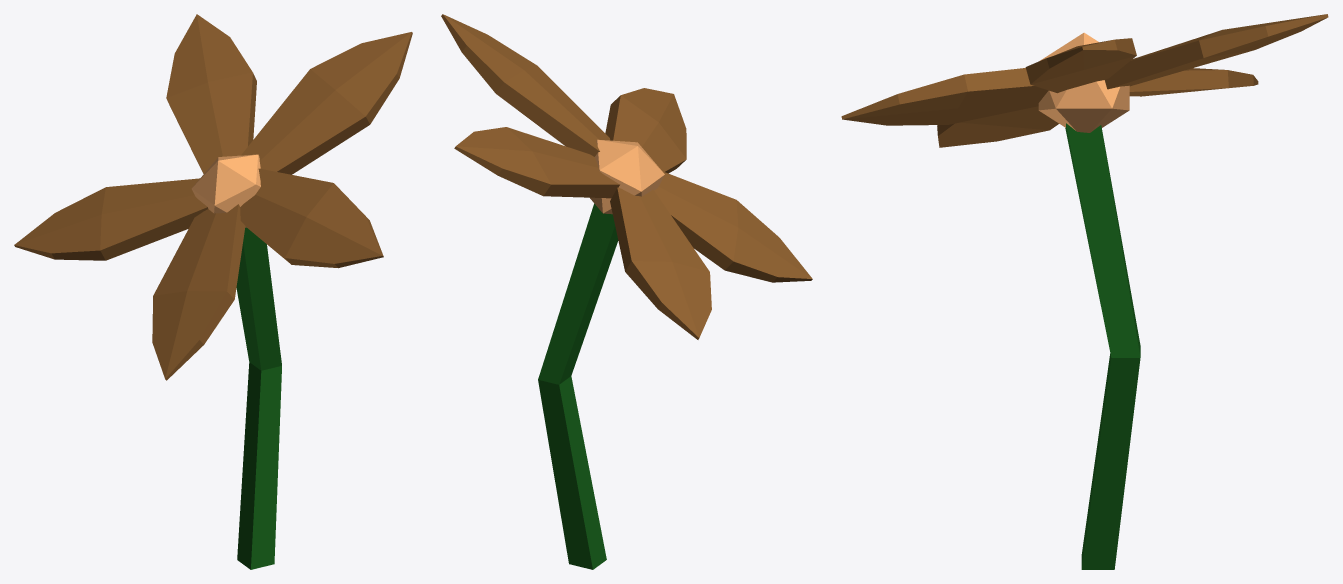
The model's file is Flower_1_Brown.fbx.
3 views of the same model, side by side, from view 1: azimuth 30°, elevation 25°; view 2: azimuth 150°, elevation 25°; view 3: azimuth 270°, elevation 25° (orthographic). The views are drawn at different scales.
Parts seen in each view (by area): view 1: Flower_1_Brown_Part_3, Flower_1_Brown_Part_1, Flower_1_Brown_Part_2; view 2: Flower_1_Brown_Part_3, Flower_1_Brown_Part_1, Flower_1_Brown_Part_2; view 3: Flower_1_Brown_Part_3, Flower_1_Brown_Part_1, Flower_1_Brown_Part_2.
Boxes of the visible parts, x1,y1,x2,y2 form: Flower_1_Brown_Part_3: (14,14,412,380); Flower_1_Brown_Part_1: (236,227,281,569); Flower_1_Brown_Part_2: (191,154,260,227); Flower_1_Brown_Part_3: (441,14,812,339); Flower_1_Brown_Part_1: (538,203,618,569); Flower_1_Brown_Part_2: (590,139,664,214); Flower_1_Brown_Part_3: (841,14,1328,147); Flower_1_Brown_Part_1: (1065,123,1140,569); Flower_1_Brown_Part_2: (1038,32,1129,132).
Bounding box in the file's own units: 25.92 × 37.81 × 27.6.
